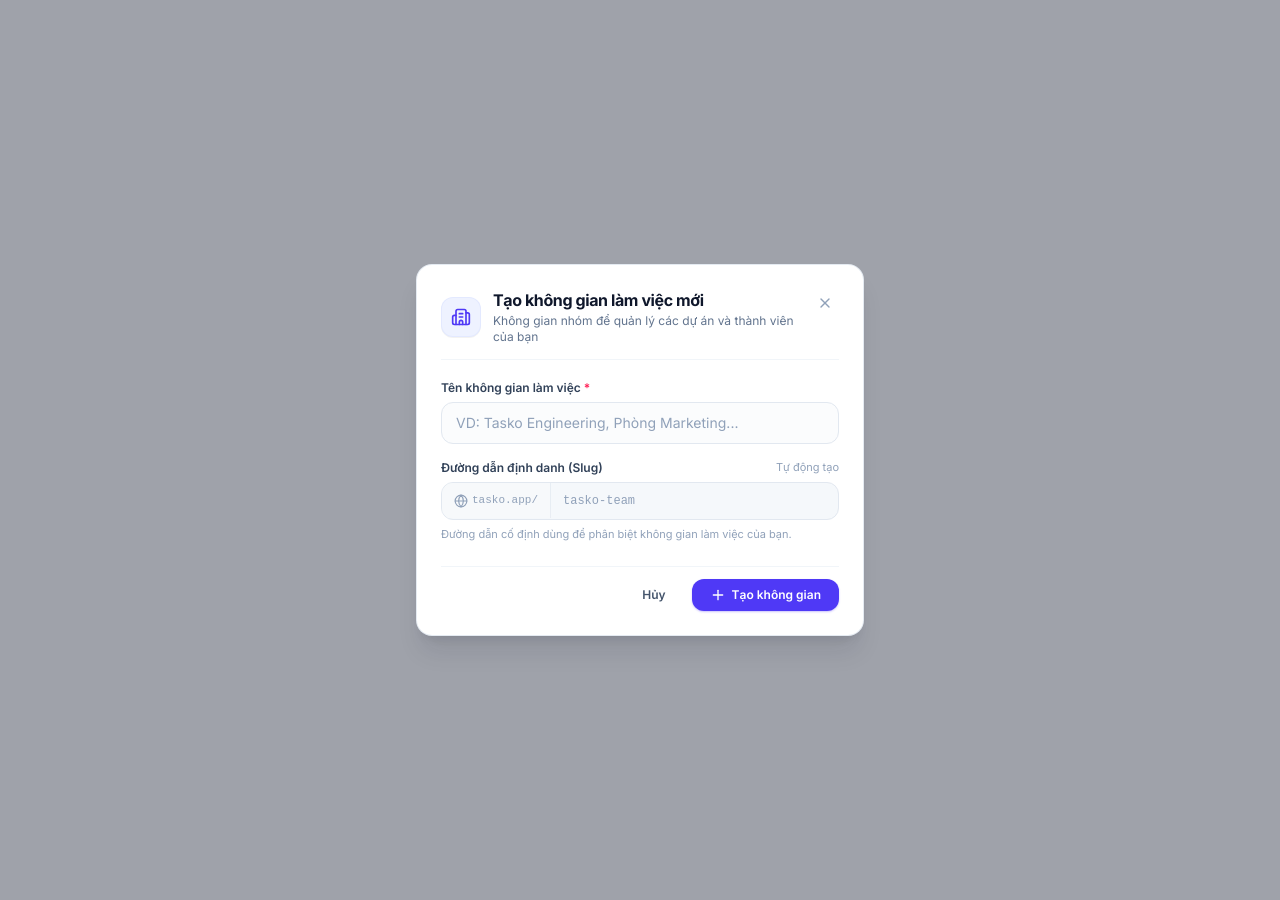
Test: CreateWorkspaceModal - Frontend Unit Tests › Độc hại: Tự động loại bỏ hoàn toàn Emoji và Ký tự đặc biệt nguy hiểm khi sinh slug
Type "🚀 Tasko @#$ Pro 2026! (Beta) & Tech" into the field with placeholder "VD: Tasko Engineering, Phòng Marketing...".
click(640, 423); type("🚀 Tasko @#$ Pro 2026! (Beta) & Tech")  # box [441,402,839,444]
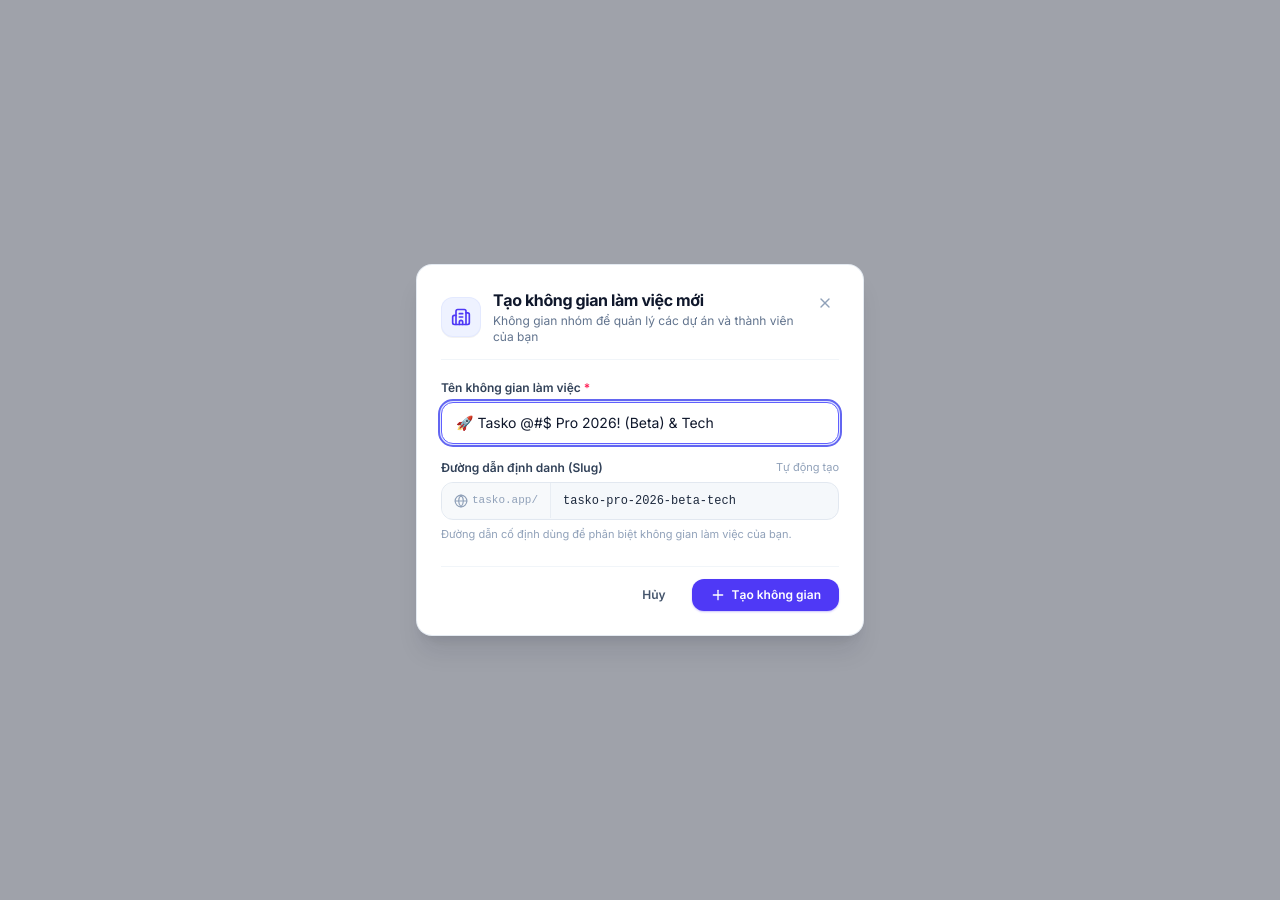
Check: the field with placeholder "tasko-team" holds "tasko-pro-2026-beta-tech", box [551,483,838,519]
